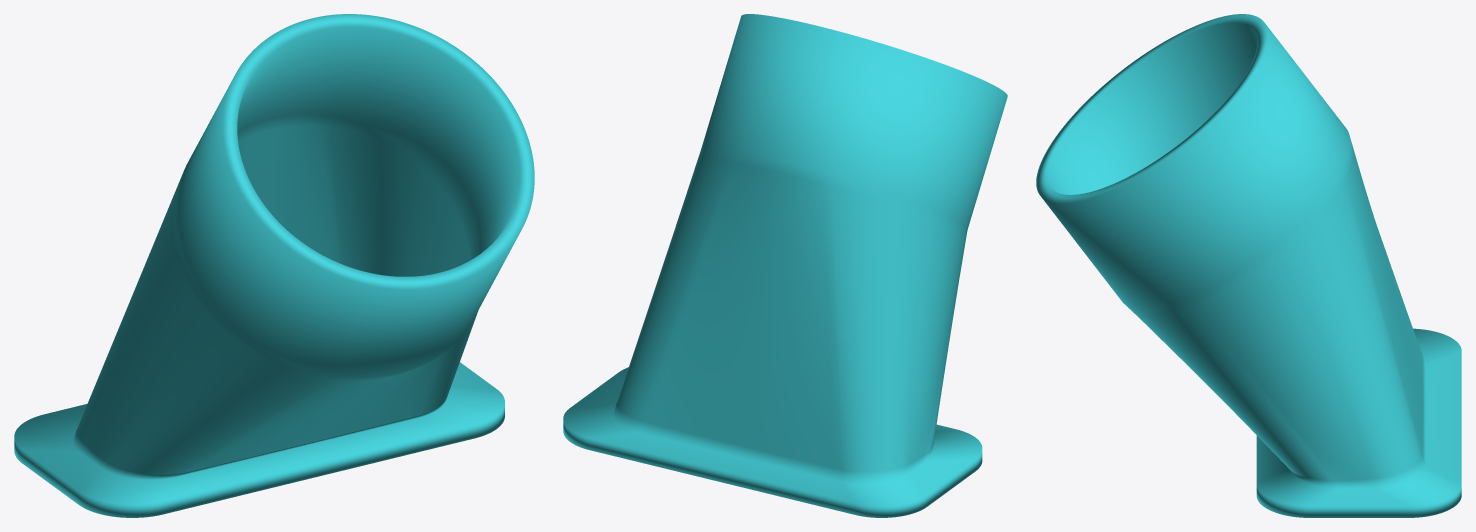
Rendered from receiver.glb.
3 renders of one model, left to right at view 1: azimuth 30°, elevation 25°; view 2: azimuth 150°, elevation 25°; view 3: azimuth 270°, elevation 25°, orthographic. The views are drawn at different scales.
Visible parts, largest first — view 1: REVIEW_EXPORT_receiver; view 2: REVIEW_EXPORT_receiver; view 3: REVIEW_EXPORT_receiver.
Part boxes in pixels (box(x1,y1,x2,y2)): REVIEW_EXPORT_receiver: box(14, 14, 534, 517); REVIEW_EXPORT_receiver: box(563, 14, 1007, 517); REVIEW_EXPORT_receiver: box(1036, 14, 1461, 517).
Bounding box in the file's own units: 0.094 × 0.0974 × 0.0954.
